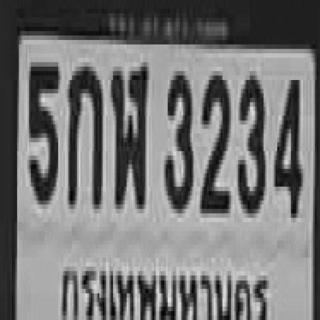A01: (67, 62, 101, 204)
A42: (110, 58, 146, 204)
N02: (199, 71, 229, 209)
N03: (162, 67, 192, 209), (236, 71, 264, 209)
N04: (272, 76, 301, 213)
N05: (27, 58, 58, 200)
P04: (55, 255, 273, 320)
